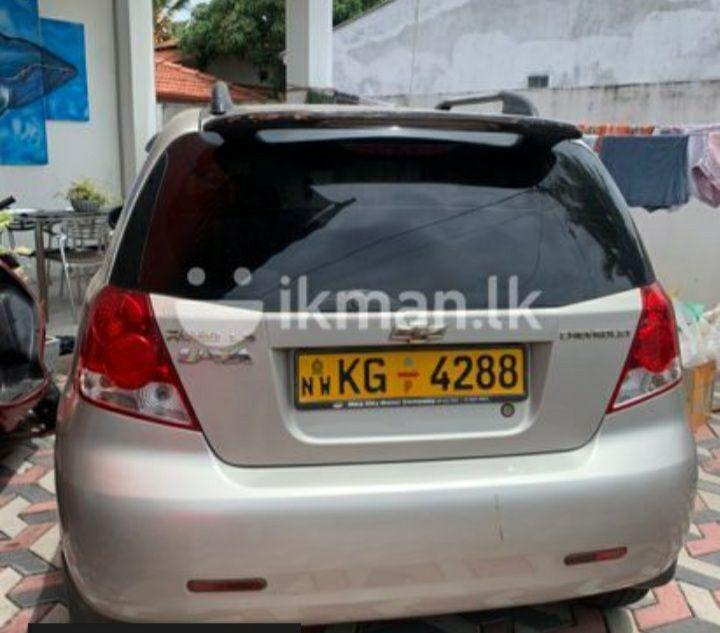license-plate: (296, 350, 524, 397)
